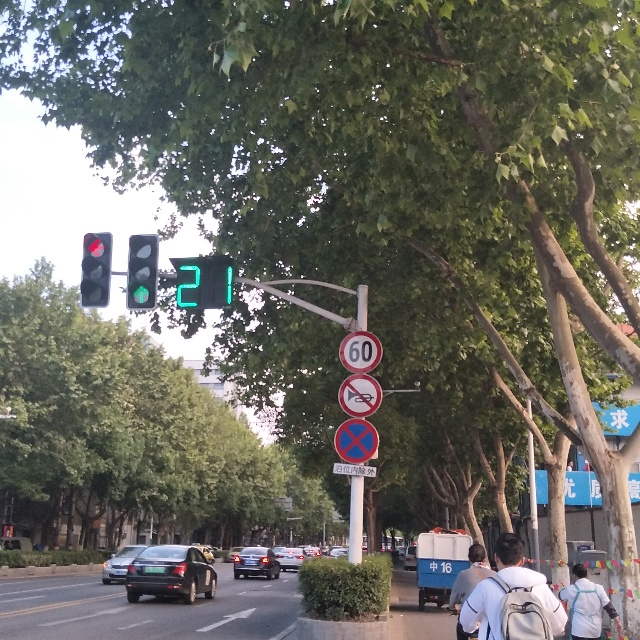nohonk: (338, 374, 383, 418)
stop: (334, 418, 379, 464)
